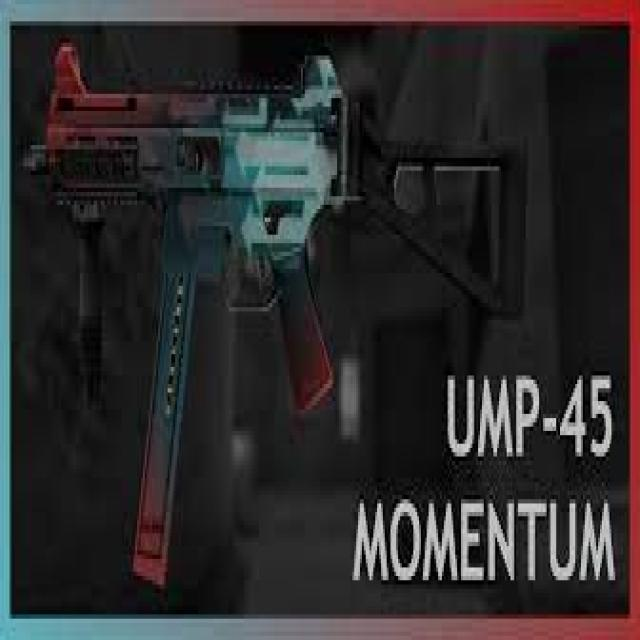Gun: (18, 40, 542, 580)
